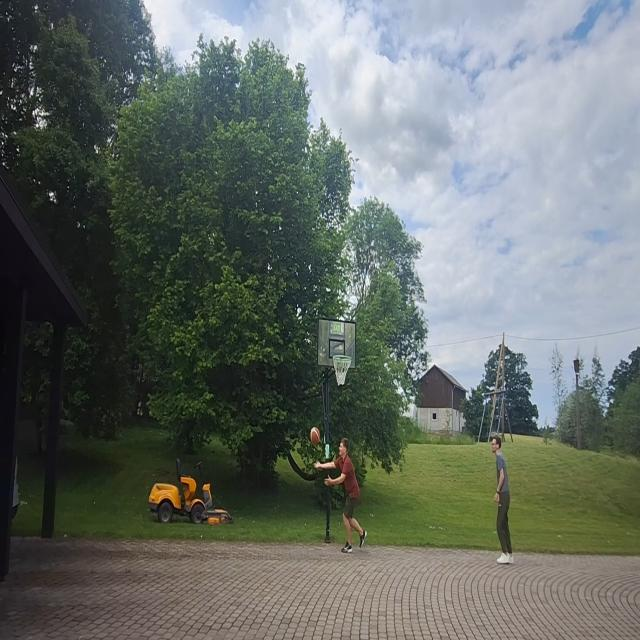ball: (310, 424, 322, 448)
basket: (332, 350, 354, 390)
player: (314, 438, 371, 556), (490, 433, 518, 568)
